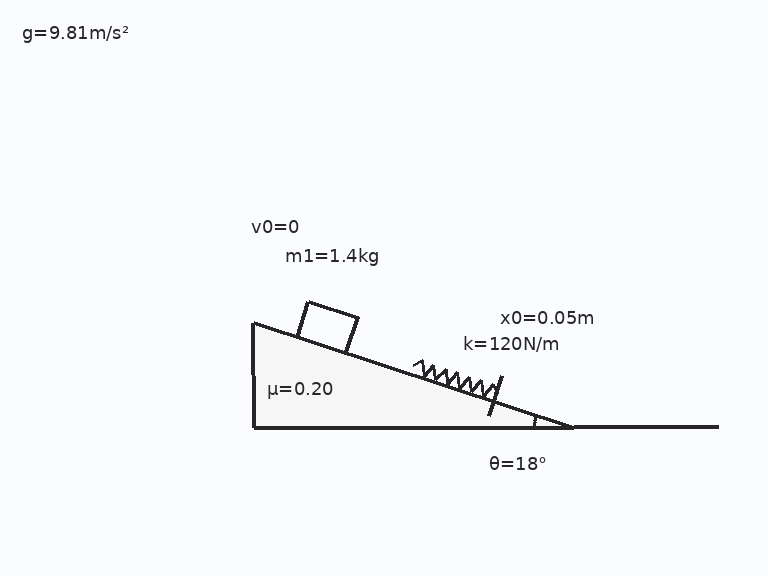block: (295, 299, 359, 355)
ramp: (251, 321, 576, 429)
spring: (411, 359, 499, 397)
